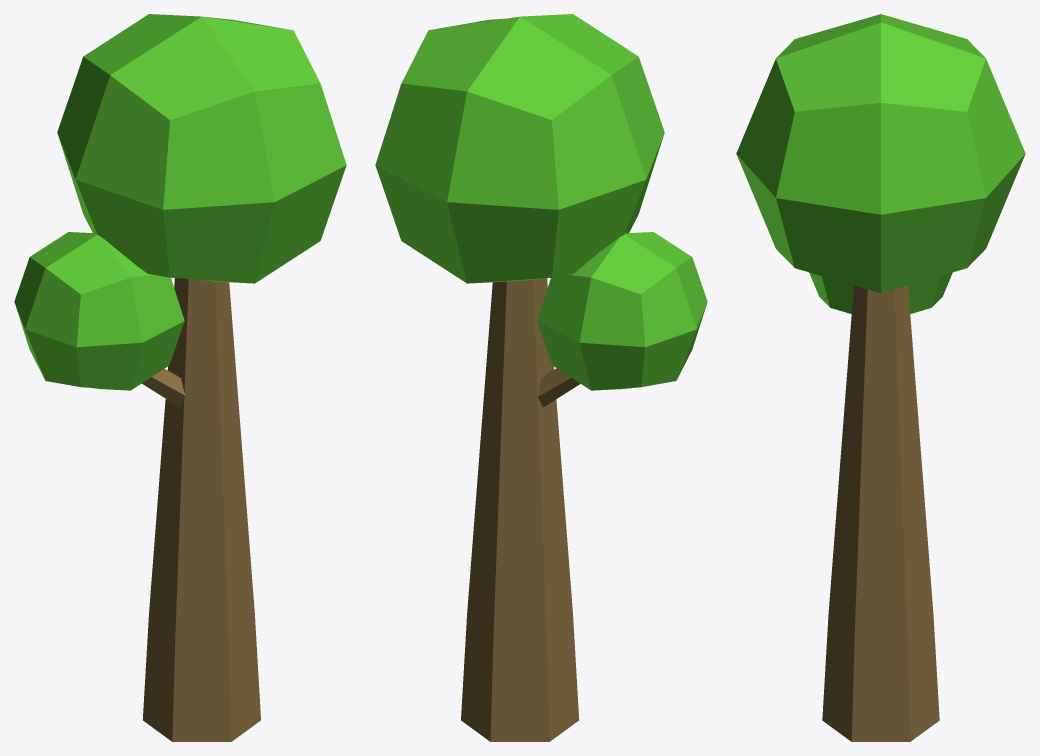
Rendered from Tree.fbx.
3 renders of one model, left to right at view 1: azimuth 30°, elevation 25°; view 2: azimuth 150°, elevation 25°; view 3: azimuth 270°, elevation 25°, orthographic.
Parts seen in each view (by area): view 1: Cube.011, Cylinder.001, Cube.012, Cylinder.002; view 2: Cube.011, Cylinder.001, Cube.012, Cylinder.002; view 3: Cube.011, Cylinder.001, Cube.012.
Boxes of the visible parts, <box> form: Cube.011: <box>57,14,346,283</box>; Cylinder.001: <box>142,278,260,741</box>; Cube.012: <box>14,232,184,390</box>; Cylinder.002: <box>142,369,185,407</box>; Cube.011: <box>375,14,664,283</box>; Cylinder.001: <box>461,278,579,741</box>; Cube.012: <box>537,232,707,390</box>; Cylinder.002: <box>538,368,580,407</box>; Cube.011: <box>736,14,1025,292</box>; Cylinder.001: <box>822,285,939,741</box>; Cube.012: <box>809,272,952,313</box>.
Size of the model in its own units: 249 by 552 by 208.
